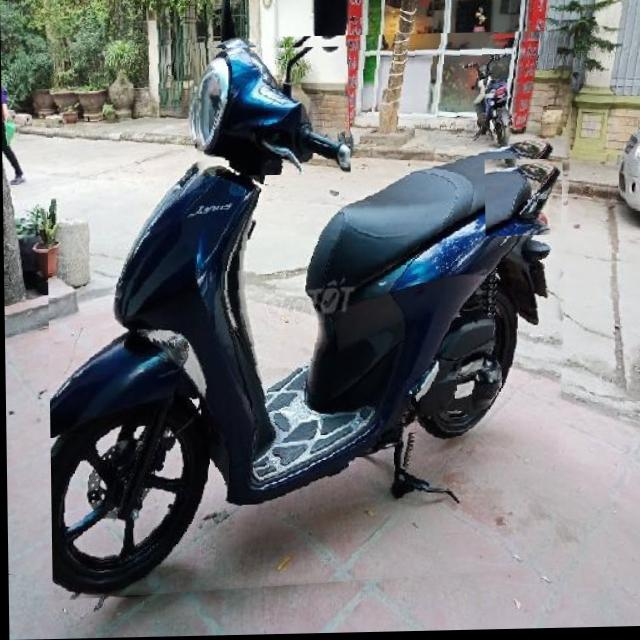All: (44, 33, 582, 602)
Head: (192, 47, 350, 178)
Tail: (484, 160, 563, 239)
